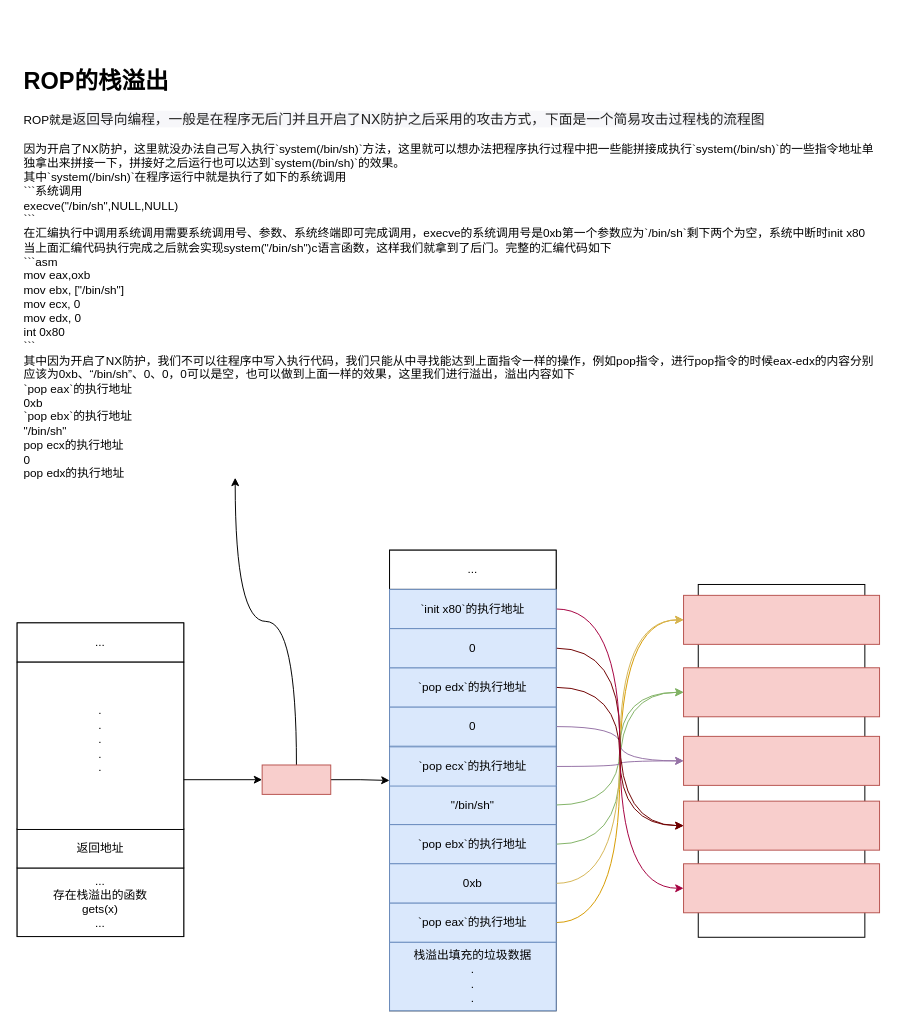
This 897x1036 diagram has some shape labels left out. Here are the shapes that lost their labels. From the top down, the centre of each, then its label:
the point at 781,619: pop eax; eax=0xb
the point at 781,692: pop ebx; ebx="/bin/sh"
the point at 296,779: 进行栈溢出
the point at 781,760: pop ecx; ecx=0
the point at 781,825: pop edx; edx=0
the point at 781,888: init x80
